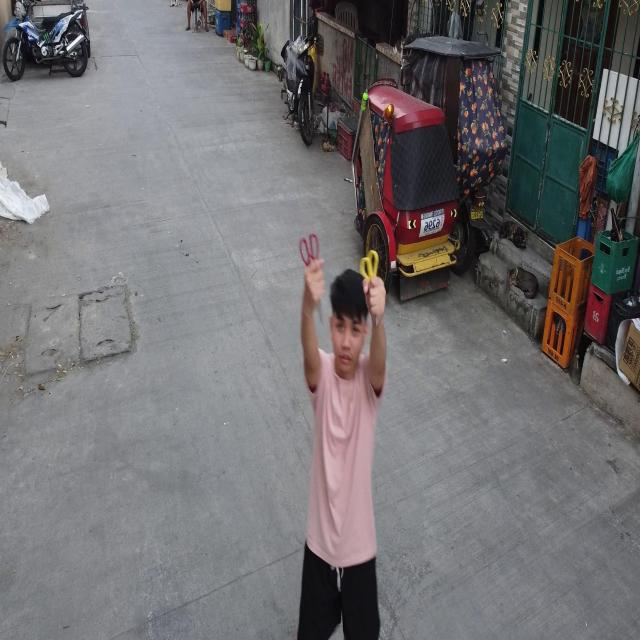scissor: (299, 232, 323, 324), (360, 250, 379, 335)
